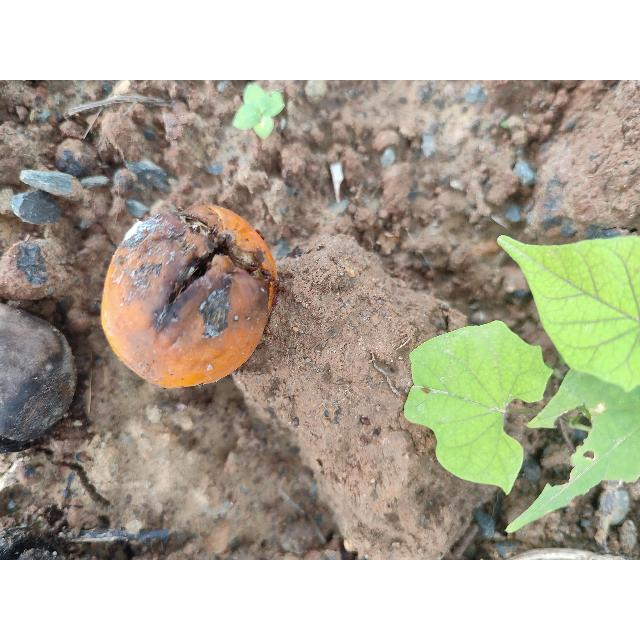damaged: (99, 201, 281, 391)
